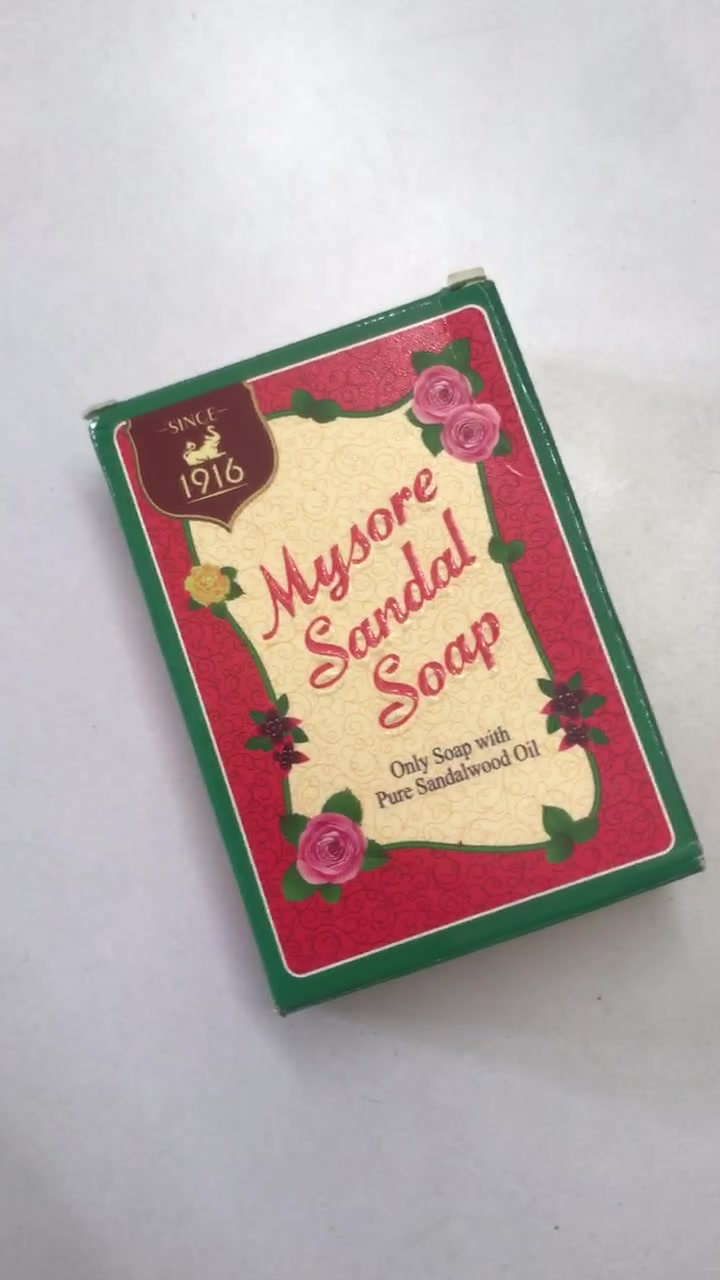mysore sandal soap: (85, 280, 709, 1021)
